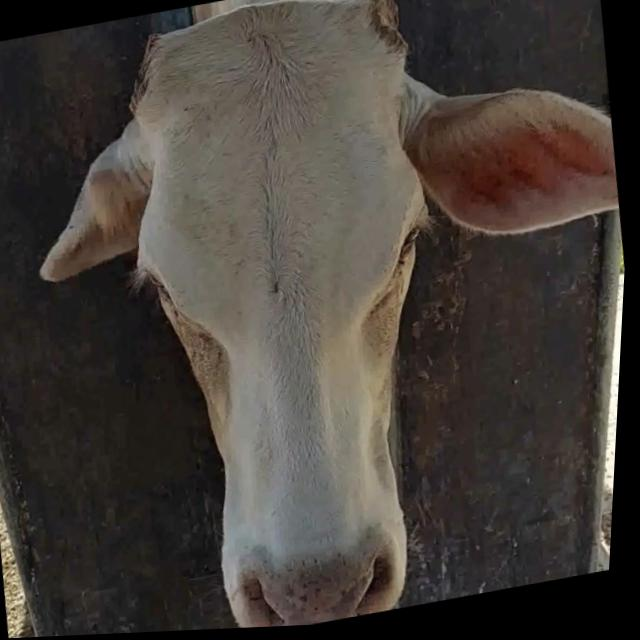cowFace: (102, 0, 492, 636)
